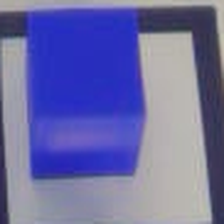cube: (17, 3, 152, 183)
